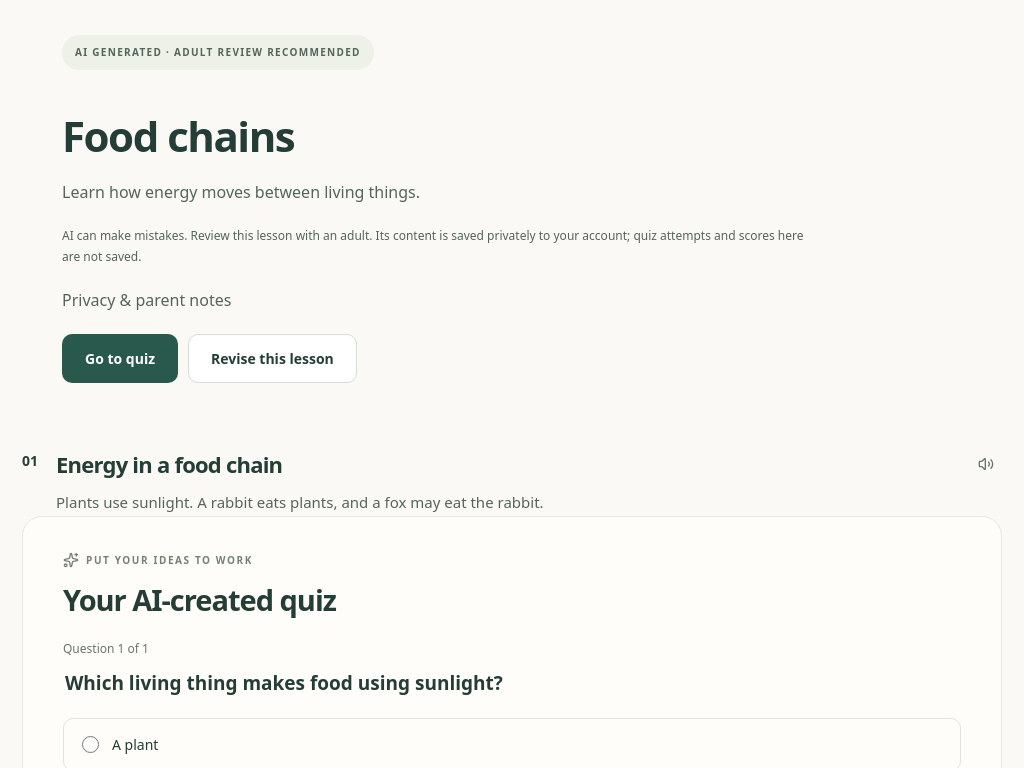
separate AI lesson and quiz › renders older saved content and its unsaved quiz without a prompt or library
This screenshot has width=1024, height=768.
Click the radio button labelled "A plant": [90, 744] box [82,736,99,752]
(page scrolled)
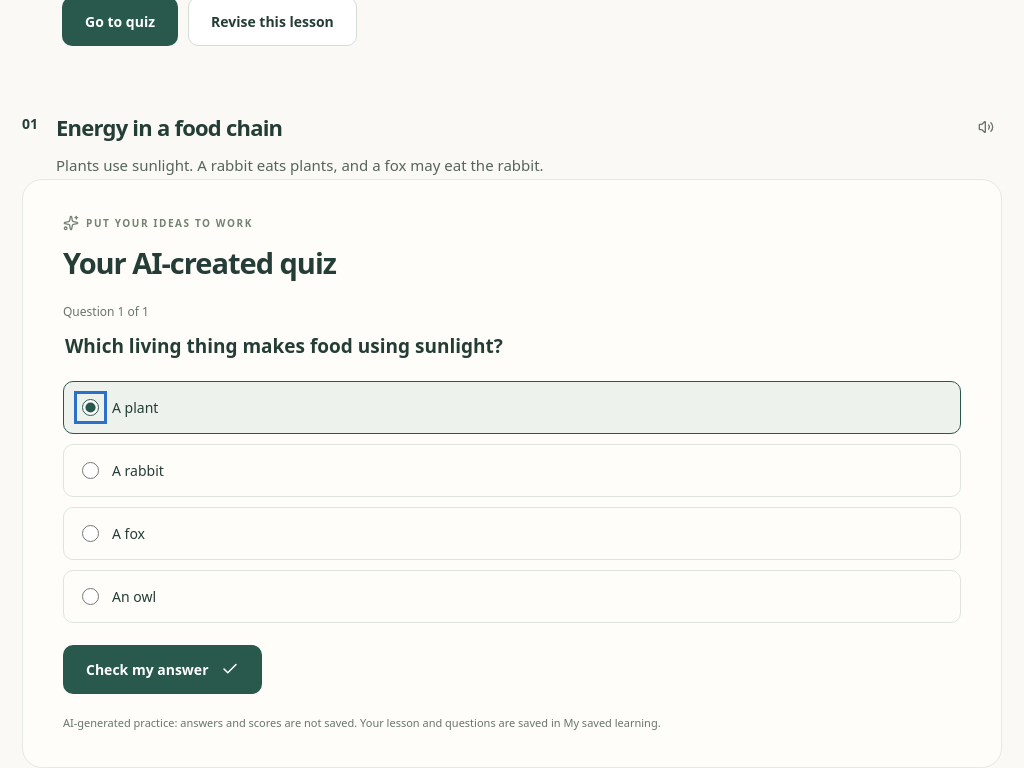
Click the button "Check my answer": [162, 669] box [63,644,262,694]
(page scrolled)
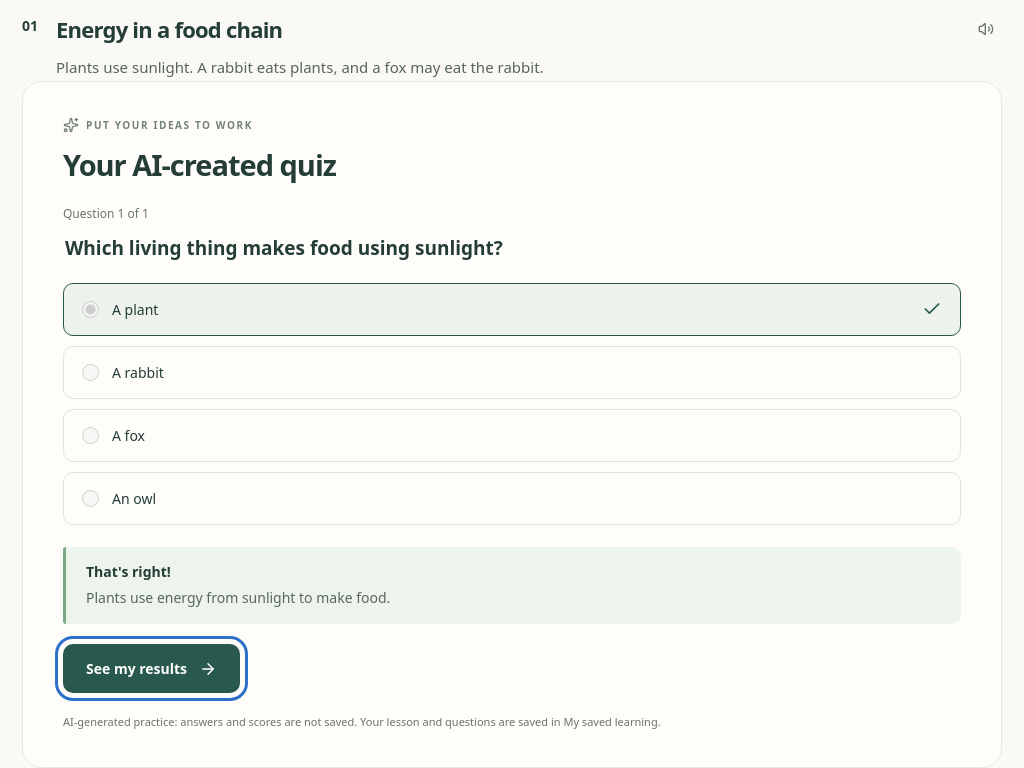
expect the text "That's right!" is shown: met, box [86,562,171,580]
Click the button "See my results": [152, 669] box [63,644,240,693]
(page scrolled)
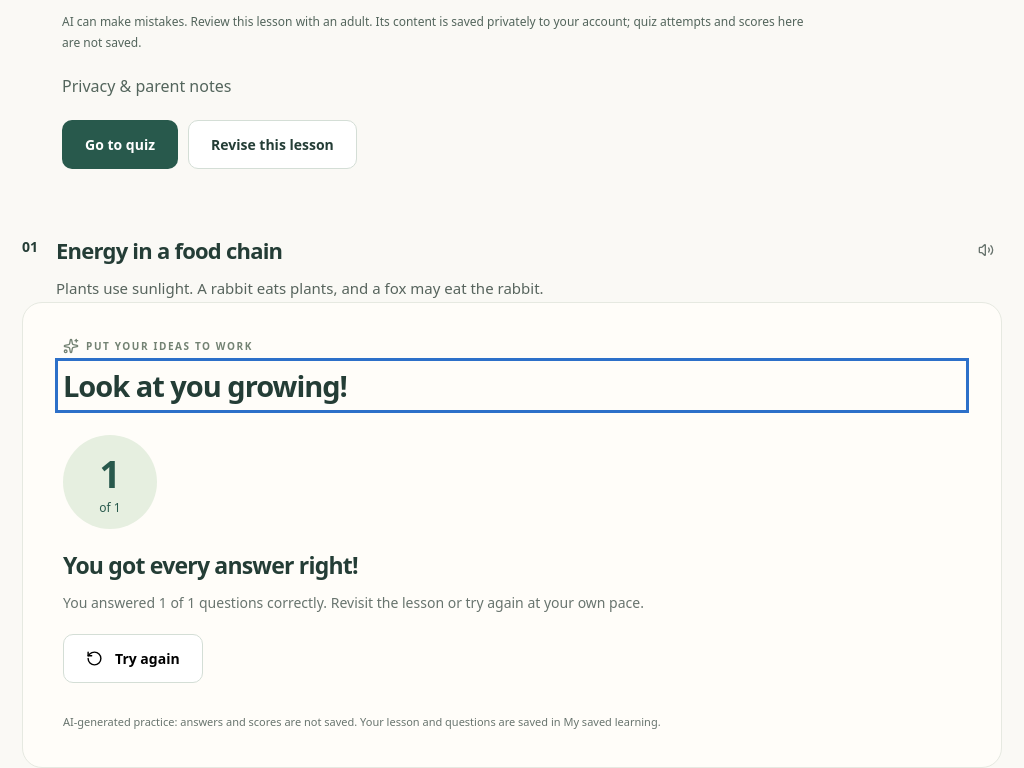
expect the text "AI-generated practice: answers and scores are not saved" is shown: met, box [63,714,661,730]
expect the heading "You got every answer right!" is shown: met, box [63,549,358,581]
